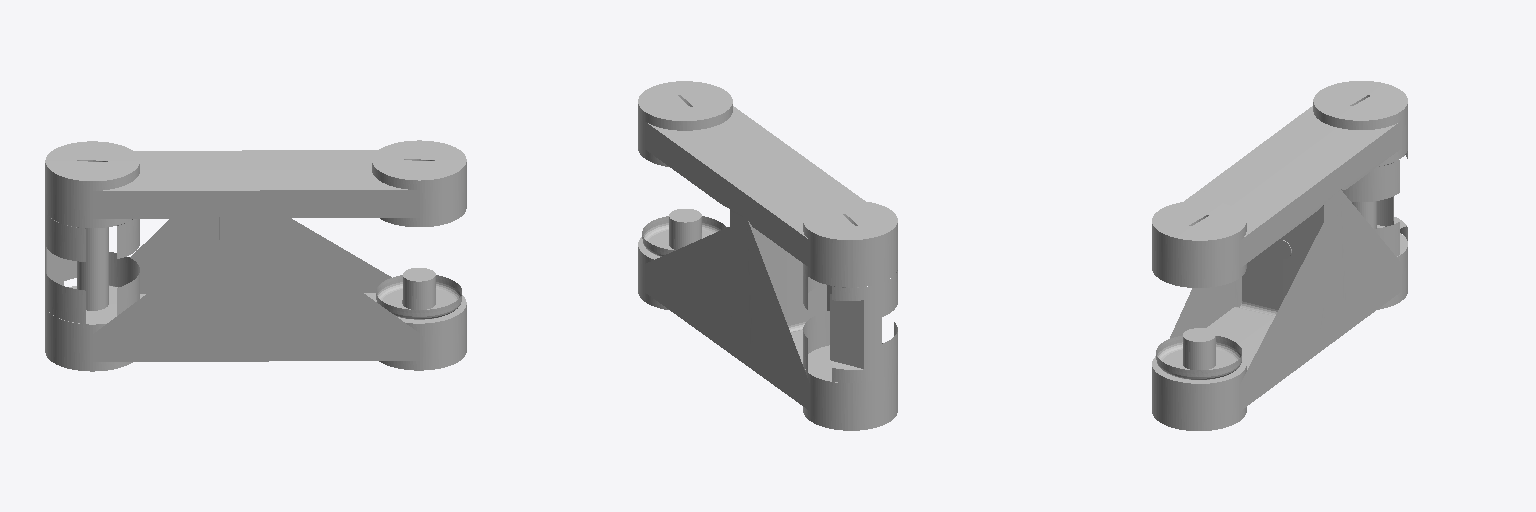
Rendered from gripper_left_inner.obj.
3 renders of one model, left to right at view 1: azimuth 30°, elevation 25°; view 2: azimuth 150°, elevation 25°; view 3: azimuth 270°, elevation 25°, orthographic.
Parts seen in each view (by area): view 1: Mesh1 Gripper_left_inner1 Model, Mesh4 Gripper_left_inner1 Model, Mesh2 Gripper_left_inner1 Model, Mesh3 Gripper_left_inner1 Model; view 2: Mesh1 Gripper_left_inner1 Model, Mesh2 Gripper_left_inner1 Model; view 3: Mesh1 Gripper_left_inner1 Model, Mesh3 Gripper_left_inner1 Model.
Boxes of the visible parts, <box> form: Mesh1 Gripper_left_inner1 Model: <box>45,140,466,371</box>; Mesh4 Gripper_left_inner1 Model: <box>77,227,108,310</box>; Mesh2 Gripper_left_inner1 Model: <box>109,252,139,315</box>; Mesh3 Gripper_left_inner1 Model: <box>117,219,139,258</box>; Mesh1 Gripper_left_inner1 Model: <box>638,81,897,430</box>; Mesh2 Gripper_left_inner1 Model: <box>803,311,829,371</box>; Mesh1 Gripper_left_inner1 Model: <box>1152,81,1407,430</box>; Mesh3 Gripper_left_inner1 Model: <box>1341,160,1399,201</box>.
Bounding box in the file's own units: 0.0365 × 0.0203 × 0.0247.